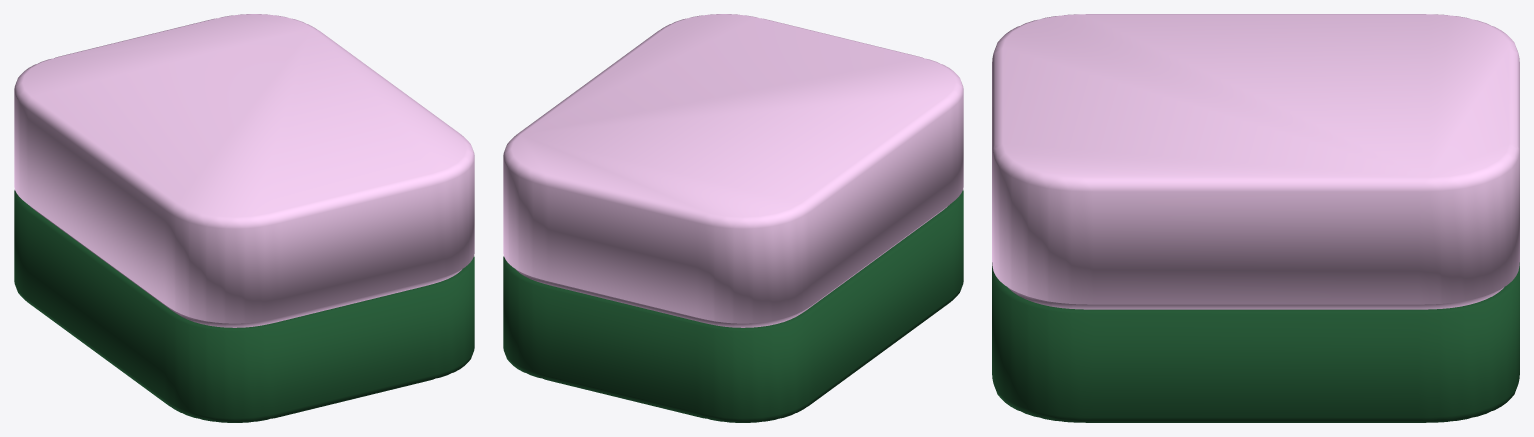
Rendered from фишка.fbx.
3 views of the same model, side by side, from view 1: azimuth 30°, elevation 25°; view 2: azimuth 150°, elevation 25°; view 3: azimuth 270°, elevation 25° (orthographic). The views are drawn at different scales.
Visible parts, largest first — view 1: Cube; view 2: Cube; view 3: Cube.
Boxes of the visible parts, x1,y1,x2,y2 form: Cube: [14, 14, 474, 422]; Cube: [503, 14, 963, 422]; Cube: [992, 14, 1519, 422].
Bounding box in the file's own units: 200 × 133 × 259.
